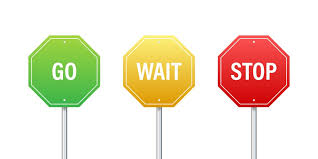stop sign: (218, 34, 289, 107)
